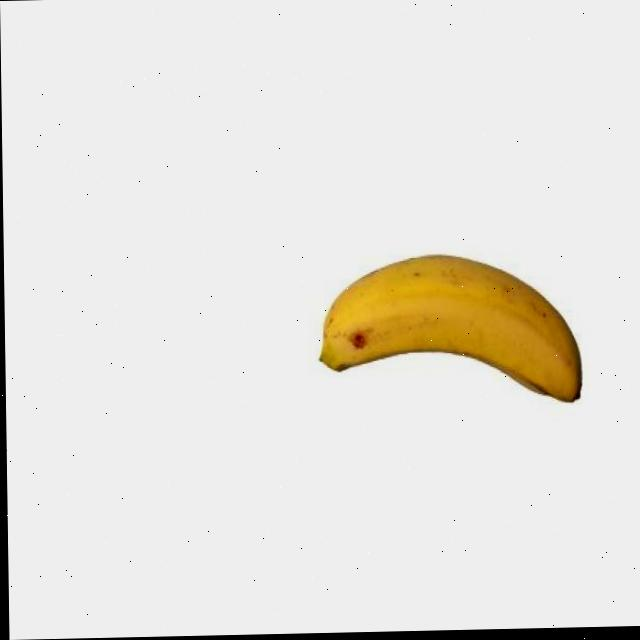banana: (310, 243, 590, 415)
